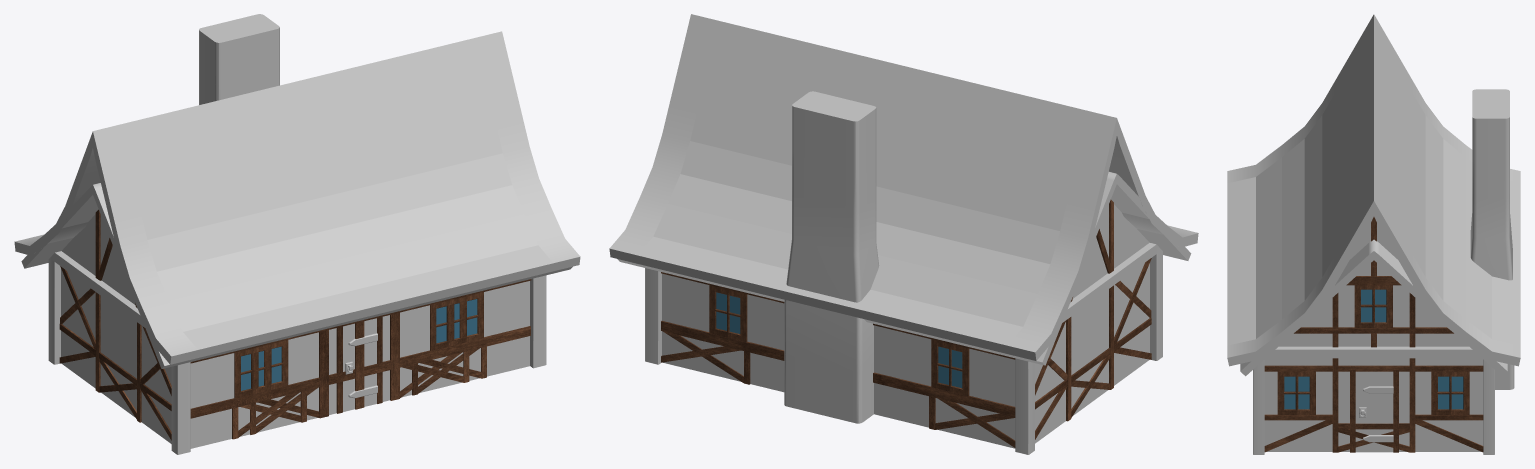
Rendered from Big House.fbx.
The picture shows the model from 3 angles, left to right: view 1: azimuth 30°, elevation 25°; view 2: azimuth 150°, elevation 25°; view 3: azimuth 270°, elevation 25°; orthographic projection. The views are drawn at different scales.
Visible parts, largest first — view 1: Roof_BIG_Curved2, House_Base16, House_Long_Side_3_Door_BIG_House_Long_Side_3_Door4, Chimney_Small6, Big_House_4_Beams_1Floor2, House_Long_Side_5_BIG_Long_Side_House_4, Standard_Roof_Big_polySurface5, House_Small_Side_2_pCube15, Door_Light7, WindowFinal33, WindowFinal32, WindowFinal39 (+2 smaller); view 2: Roof_BIG_Curved2, Chimney_Small6, House_Base16, Big_House_4_Beams_1Floor2, House_Long_Side_4_BIG_Long_Side_House2, Standard_Roof_Big_polySurface5, House_Small_Side_2_pCube15, WindowFinal34, WindowFinal35, House_CurvedRoof_Deco4; view 3: Roof_BIG_Curved2, House_Base16, Chimney_Small6, House_Small_Side_9, Big_House_4_Beams_1Floor2, Door_Dark7, House_CurvedRoof_DecoWindow, Standard_Roof_Big_polySurface5, WindowFinal31, WindowFinal30, WindowFinal36, House_Small_Side_1_pCube15 (+1 smaller).
Boxes of the visible parts, <box> form: Roof_BIG_Curved2: <box>14,31,580,364</box>; House_Base16: <box>61,269,529,448</box>; House_Long_Side_3_Door_BIG_House_Long_Side_3_Door4: <box>190,312,530,434</box>; Chimney_Small6: <box>199,14,279,104</box>; Big_House_4_Beams_1Floor2: <box>48,251,546,454</box>; House_Long_Side_5_BIG_Long_Side_House_4: <box>190,279,531,439</box>; Standard_Roof_Big_polySurface5: <box>21,183,572,368</box>; House_Small_Side_2_pCube15: <box>59,266,171,440</box>; Door_Light7: <box>343,318,377,411</box>; WindowFinal33: <box>234,344,270,398</box>; WindowFinal32: <box>448,292,483,344</box>; WindowFinal39: <box>253,340,288,391</box>; Roof_BIG_Curved2: <box>609,14,1198,360</box>; Chimney_Small6: <box>784,91,879,423</box>; House_Base16: <box>662,263,1149,448</box>; Big_House_4_Beams_1Floor2: <box>645,243,1162,454</box>; House_Long_Side_4_BIG_Long_Side_House2: <box>661,272,1015,447</box>; Standard_Roof_Big_polySurface5: <box>617,172,1191,365</box>; House_Small_Side_2_pCube15: <box>1035,258,1151,439</box>; WindowFinal34: <box>931,339,969,396</box>; WindowFinal35: <box>709,285,747,341</box>; House_CurvedRoof_Deco4: <box>1071,199,1113,301</box>; Roof_BIG_Curved2: <box>1227,14,1520,366</box>; House_Base16: <box>1264,358,1483,451</box>; Chimney_Small6: <box>1470,89,1514,389</box>; House_Small_Side_9: <box>1264,358,1483,452</box>; Big_House_4_Beams_1Floor2: <box>1253,346,1494,454</box>; Door_Dark7: <box>1355,371,1393,452</box>; House_CurvedRoof_DecoWindow: <box>1294,217,1453,347</box>; Standard_Roof_Big_polySurface5: <box>1240,239,1507,376</box>; WindowFinal31: <box>1431,371,1469,414</box>; WindowFinal30: <box>1277,371,1315,414</box>; WindowFinal36: <box>1354,285,1392,327</box>; House_Small_Side_1_pCube15: <box>1338,423,1409,452</box>.
Size of the model in its own units: 11.51 by 7.73 by 7.64.
